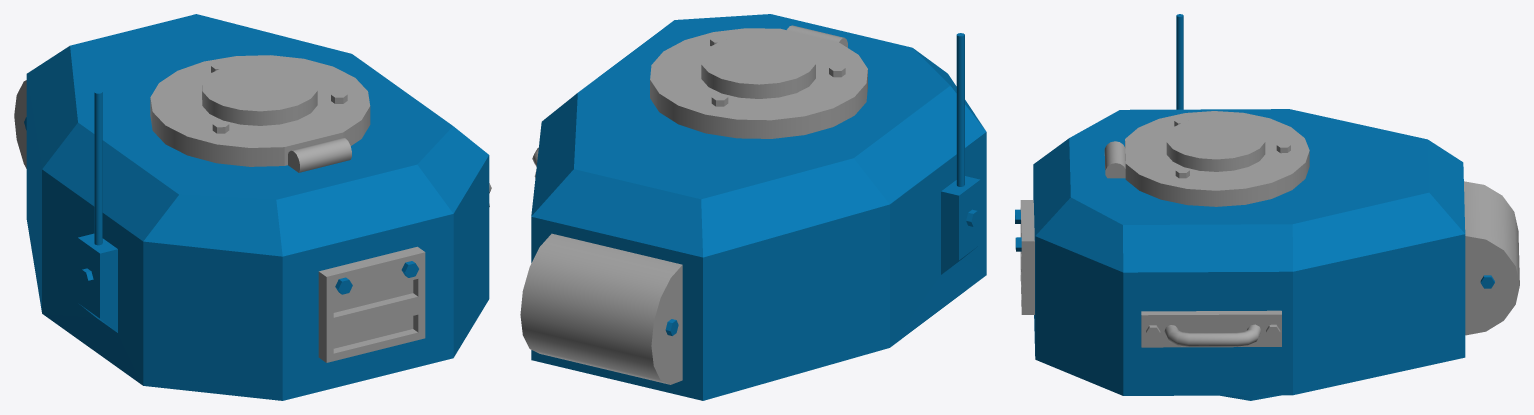
The model's file is Tank_Canon_Head.fbx.
3 renders of one model, left to right at view 1: azimuth 30°, elevation 25°; view 2: azimuth 150°, elevation 25°; view 3: azimuth 270°, elevation 25°, orthographic. The views are drawn at different scales.
Parts seen in each view (by area): view 1: Tank_Canon_Head; view 2: Tank_Canon_Head; view 3: Tank_Canon_Head.
Boxes of the visible parts, x1=… form: Tank_Canon_Head: x1=14, y1=14, x2=491, y2=400; Tank_Canon_Head: x1=520, y1=14, x2=986, y2=400; Tank_Canon_Head: x1=1015, y1=14, x2=1519, y2=400.
Size of the model in its own units: 98.66 by 69.12 by 123.
